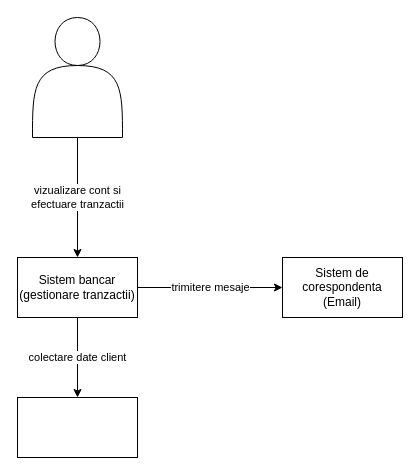
This 420x475 diagram has some shape labels left out. Each missing label, with the centre of its shape:
"Baza de date a sistemului bancar" belongs at point 77,427.
"Client" belongs at point 77,77.
